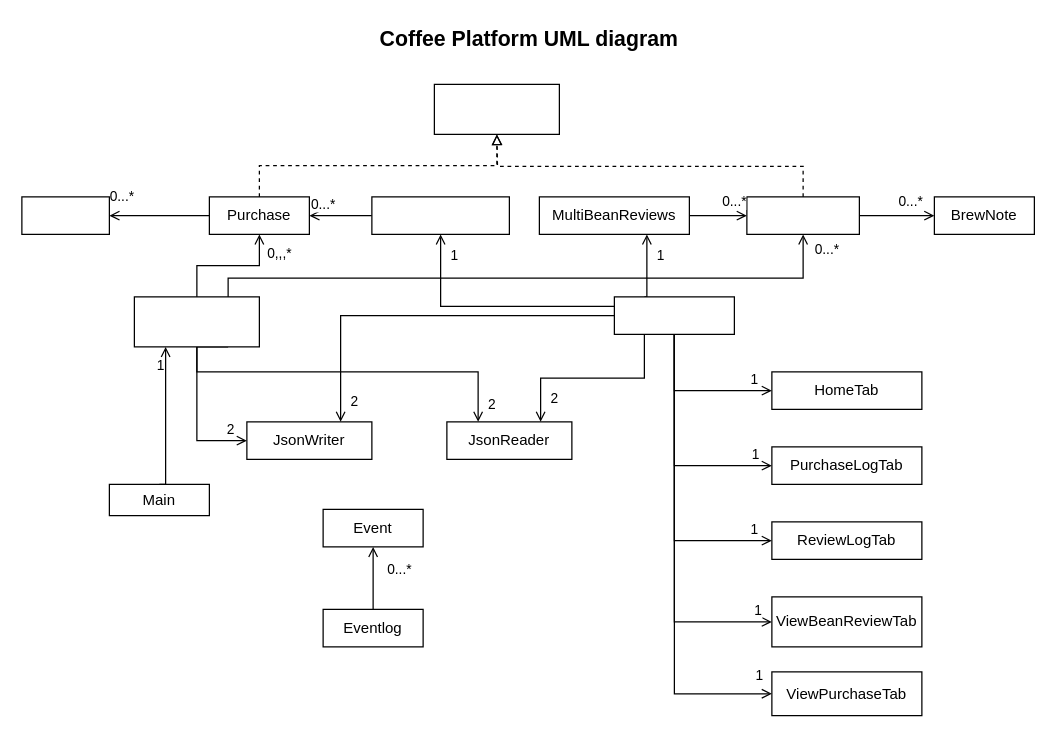
The diagram is 1058 pixels wide and 738 high, and some of its shapes have lost their labels. Each missing label, with the box of its shape:
<<Interface>> Writable: (433, 83, 559, 134)
BeanReview: (746, 196, 859, 234)
Beans: (21, 196, 109, 234)
CoffeePlatform: (133, 296, 259, 347)
MultiPurchases: (371, 196, 509, 234)
PlatformUI: (613, 296, 734, 334)
